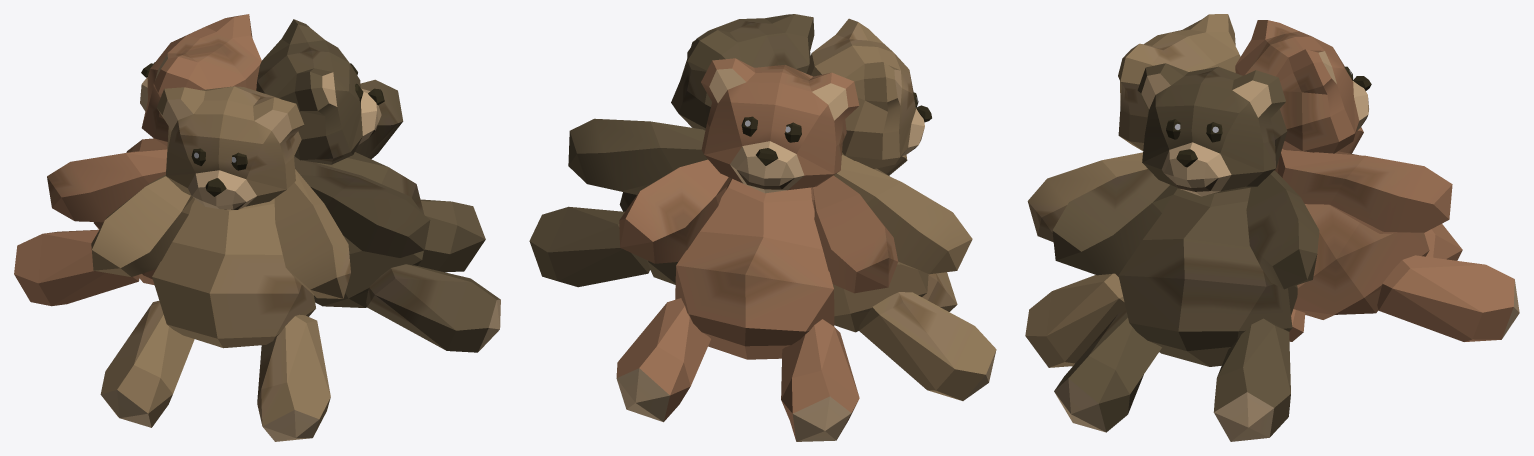
The model's file is SM_Prop_Plushies_Grouped_06.glb.
The picture shows the model from 3 angles, left to right: view 1: azimuth 30°, elevation 25°; view 2: azimuth 150°, elevation 25°; view 3: azimuth 270°, elevation 25°; orthographic projection. The views are drawn at different scales.
Visible parts, largest first — view 1: SM_Prop_Plushies_Grouped_06; view 2: SM_Prop_Plushies_Grouped_06; view 3: SM_Prop_Plushies_Grouped_06.
Part boxes in pixels (left/top/right/bottom): SM_Prop_Plushies_Grouped_06: left=14, top=14, right=500, bottom=441; SM_Prop_Plushies_Grouped_06: left=529, top=14, right=996, bottom=441; SM_Prop_Plushies_Grouped_06: left=1025, top=14, right=1519, bottom=441.
Size of the model in its own units: 144 by 112 by 145.
Materials: 1 (1 with a texture image).
